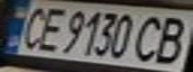0: (112, 10, 139, 61)
1: (78, 8, 103, 56)
3: (96, 8, 121, 59)
9: (60, 6, 87, 55)
B: (148, 12, 193, 65)
C: (130, 11, 172, 64), (12, 2, 54, 52)
E: (30, 3, 69, 53)
